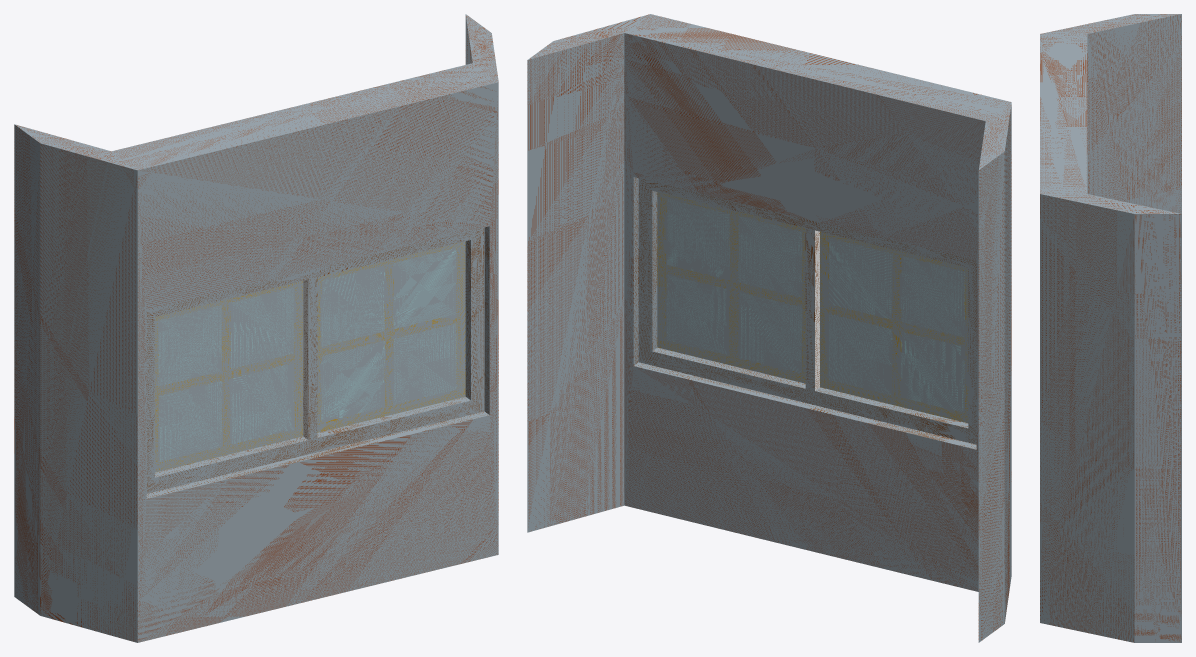
The model's file is window_bay_2.fbx.
3 renders of one model, left to right at view 1: azimuth 30°, elevation 25°; view 2: azimuth 150°, elevation 25°; view 3: azimuth 270°, elevation 25°, orthographic. The views are drawn at different scales.
Parts seen in each view (by area): view 1: Mesh1_window_16_1 Model; view 2: Mesh1_window_16_1 Model; view 3: Mesh1_window_16_1 Model.
Boxes of the visible parts, box(x1,y1,x2,y2) form: Mesh1_window_16_1 Model: box(14, 14, 498, 642); Mesh1_window_16_1 Model: box(527, 14, 1011, 642); Mesh1_window_16_1 Model: box(1040, 14, 1181, 642).
Size of the model in its own units: 1 by 1 by 0.3.
